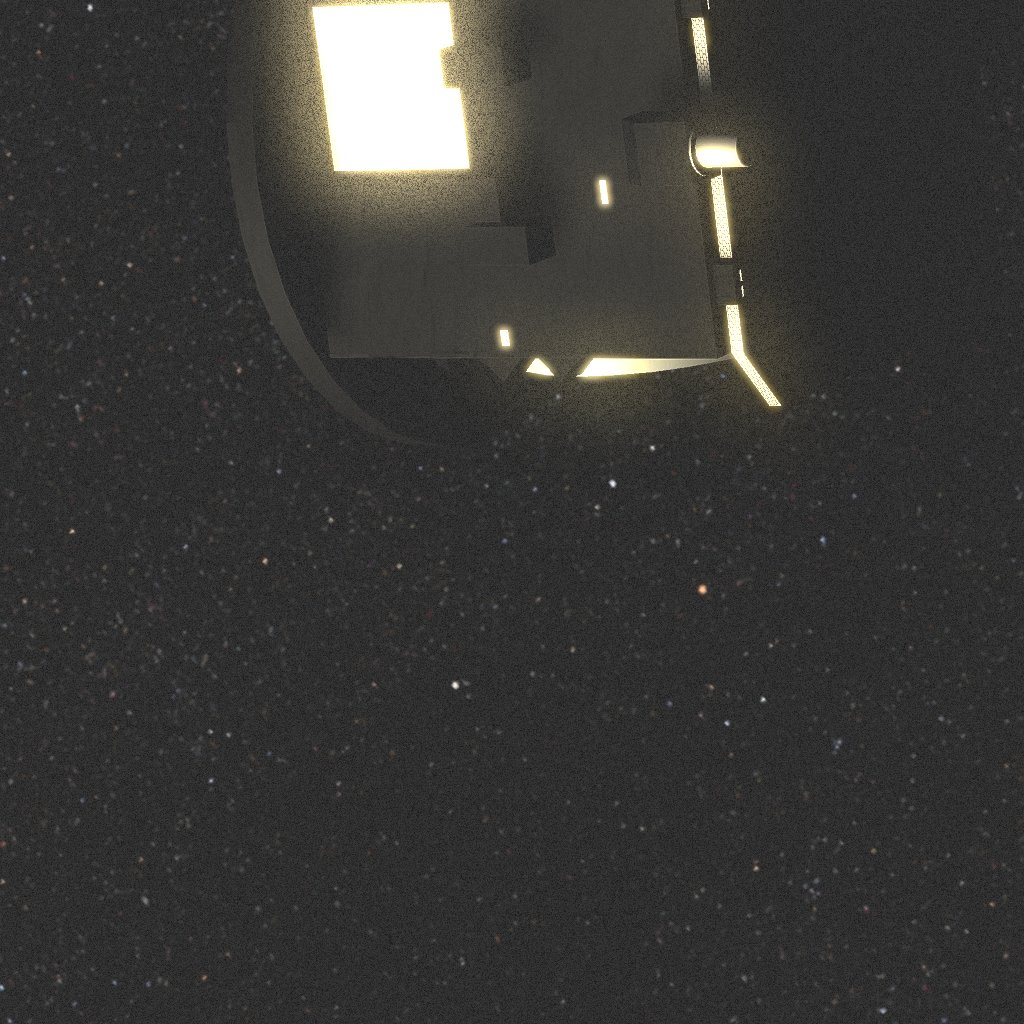proba_3_ocs: (226, 0, 1024, 445)
